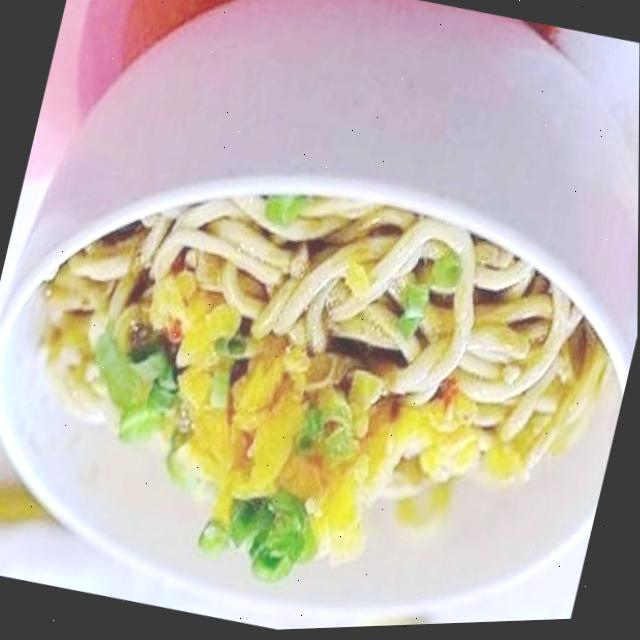面条主食: (0, 56, 640, 640)
